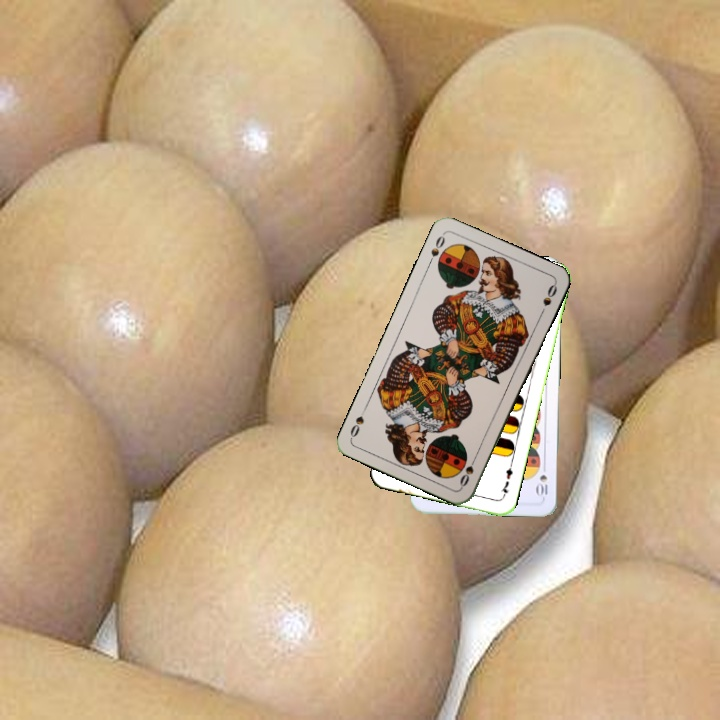E7: (497, 460, 515, 500)
S10: (534, 460, 550, 500)
SO: (456, 451, 479, 490), (424, 232, 447, 268)
